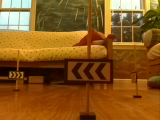left: (66, 60, 113, 82)
right: (8, 71, 24, 79)
